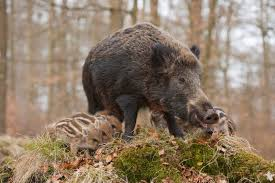boar: (81, 21, 220, 145)
